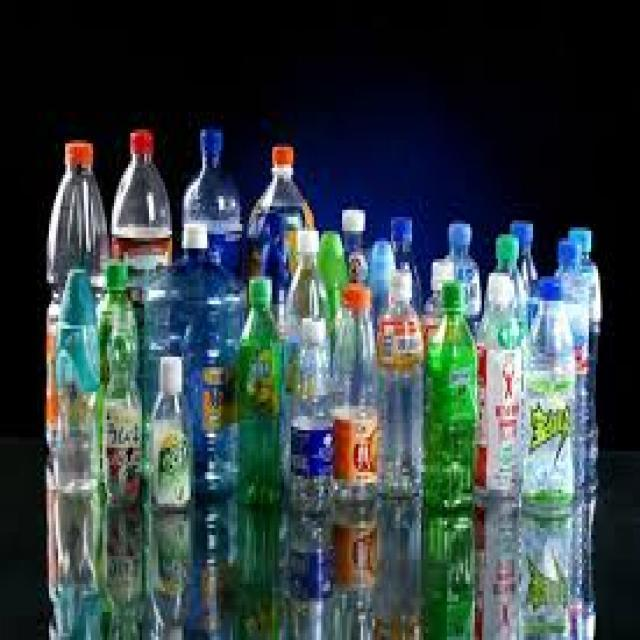Plastic: (44, 133, 106, 472), (524, 276, 586, 526), (420, 284, 480, 510), (95, 257, 146, 505), (476, 263, 528, 505), (329, 284, 379, 512), (241, 274, 286, 510), (378, 267, 421, 504), (110, 132, 174, 288), (178, 122, 244, 271), (58, 262, 99, 491), (291, 315, 337, 516), (570, 222, 603, 489), (554, 235, 588, 492), (145, 351, 193, 510)
